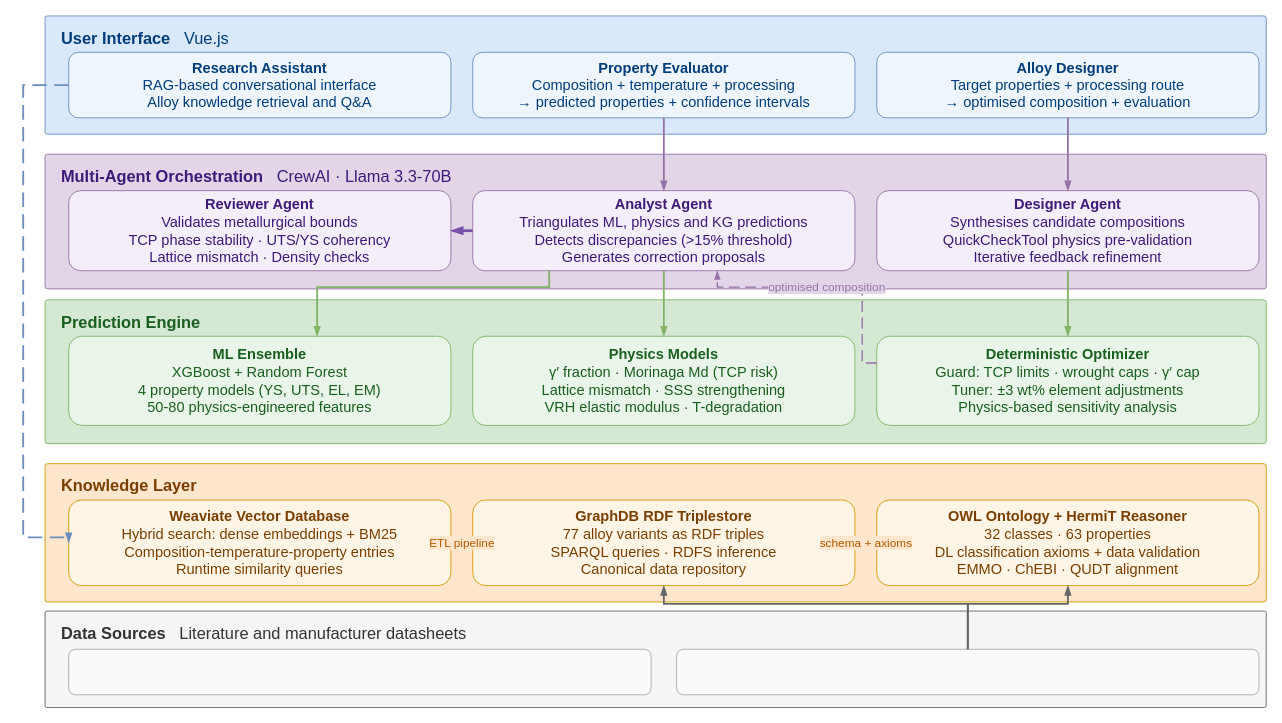
Image size: 1282x723. Some labels were removed from this diagram. The centre of each missing label's shape, as x and y in pixels:
"Evaluation Set 88 Ni superalloys · Held-out test data (stratified by novelty)" belongs at (x=359, y=671).
"Knowledge Graph Data 77 Ni superalloys · ML training + KG population" belongs at (x=967, y=671).
